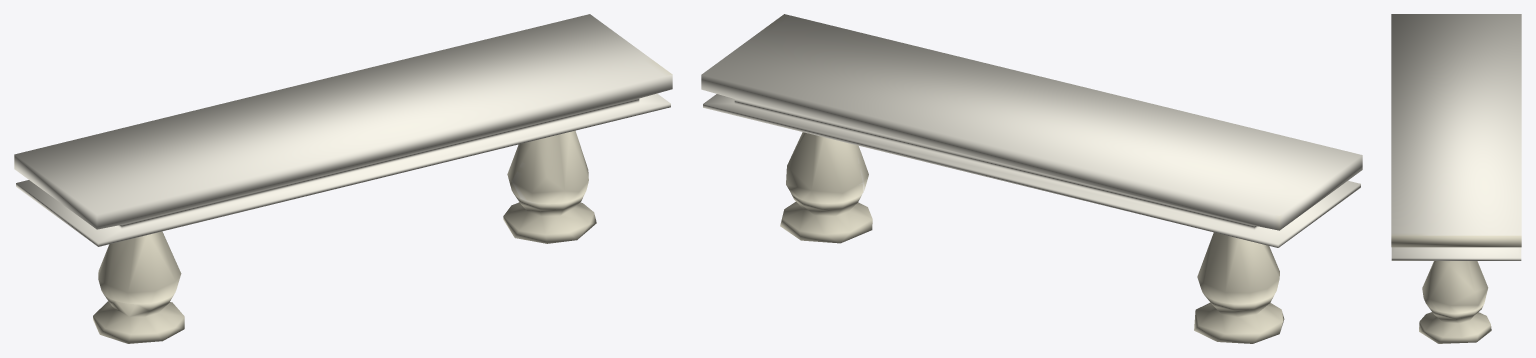
The model's file is banco.obj.
The picture shows the model from 3 angles, left to right: view 1: azimuth 30°, elevation 25°; view 2: azimuth 150°, elevation 25°; view 3: azimuth 270°, elevation 25°; orthographic projection. The views are drawn at different scales.
Parts seen in each view (by area): view 1: Cylinder.015; view 2: Cylinder.015; view 3: Cylinder.015.
Part boxes in pixels (x1,y1,x2,y2): Cylinder.015: [14, 14, 672, 343]; Cylinder.015: [701, 14, 1362, 343]; Cylinder.015: [1391, 14, 1521, 343].
Bounding box in the file's own units: 2.37 × 0.6273 × 0.5892.
